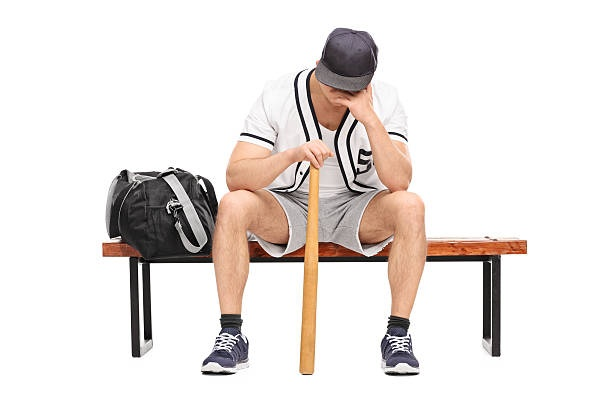bita: (296, 149, 320, 378)
